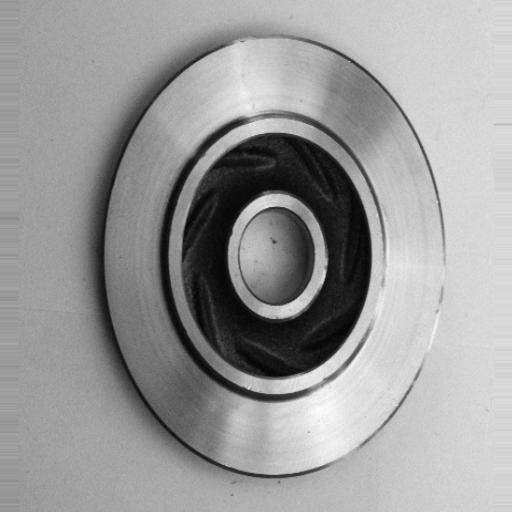scratch: (395, 249, 459, 384), (364, 246, 403, 350)
unpolished_casting: (99, 34, 451, 482)
